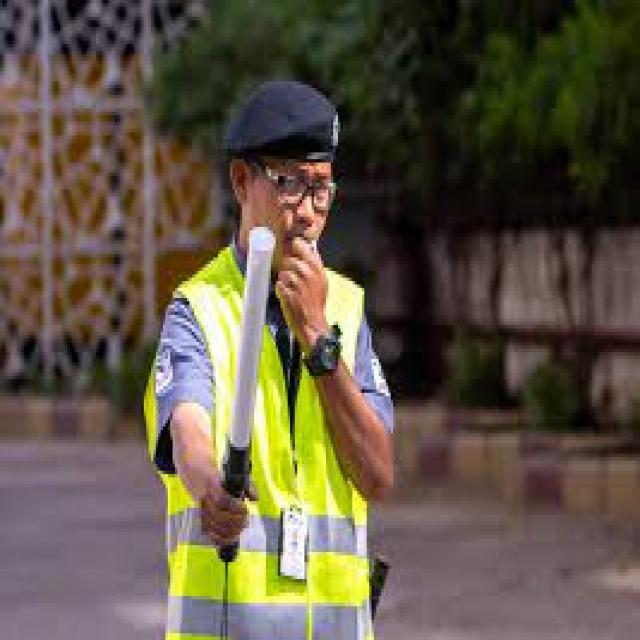Reflective-Jacket: (144, 247, 383, 640)
